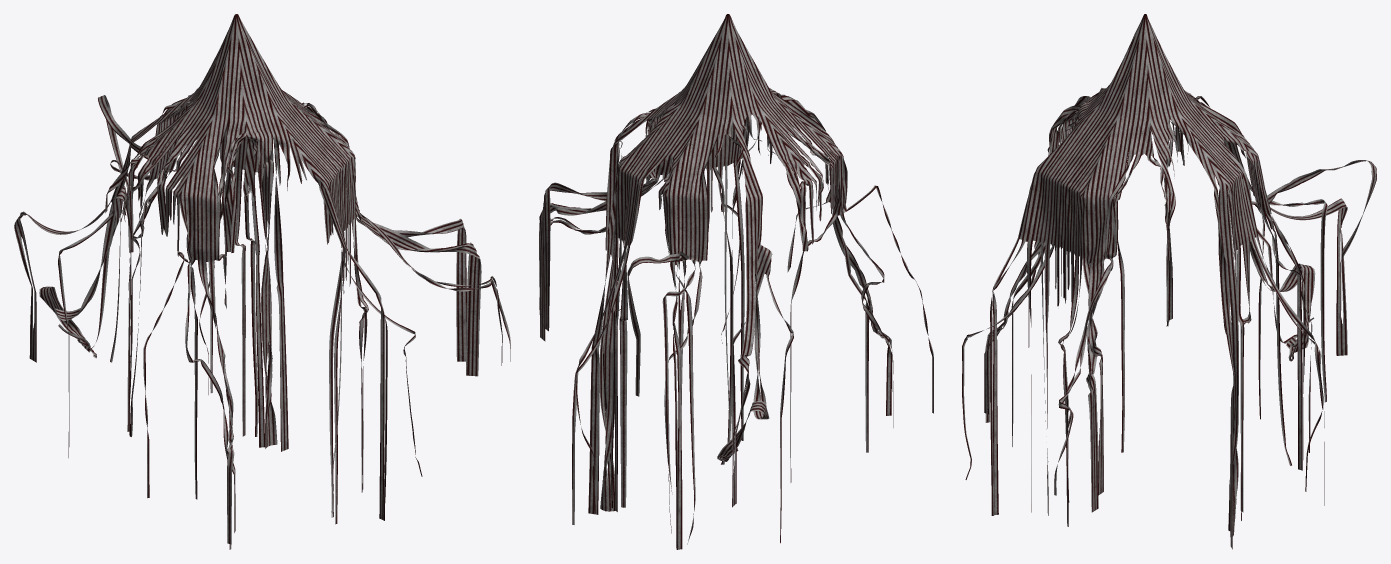
File: P_BloodTent02.fbx
The picture shows the model from 3 angles, left to right: view 1: azimuth 30°, elevation 25°; view 2: azimuth 150°, elevation 25°; view 3: azimuth 270°, elevation 25°; orthographic projection.
Parts seen in each view (by area): view 1: P_BloodTent02; view 2: P_BloodTent02; view 3: P_BloodTent02.
Part boxes in pixels (x1,y1,x2,y2): P_BloodTent02: (14, 14, 510, 549); P_BloodTent02: (539, 14, 933, 549); P_BloodTent02: (962, 14, 1376, 549).
Bounding box in the file's own units: 17075 × 21186 × 16297.
